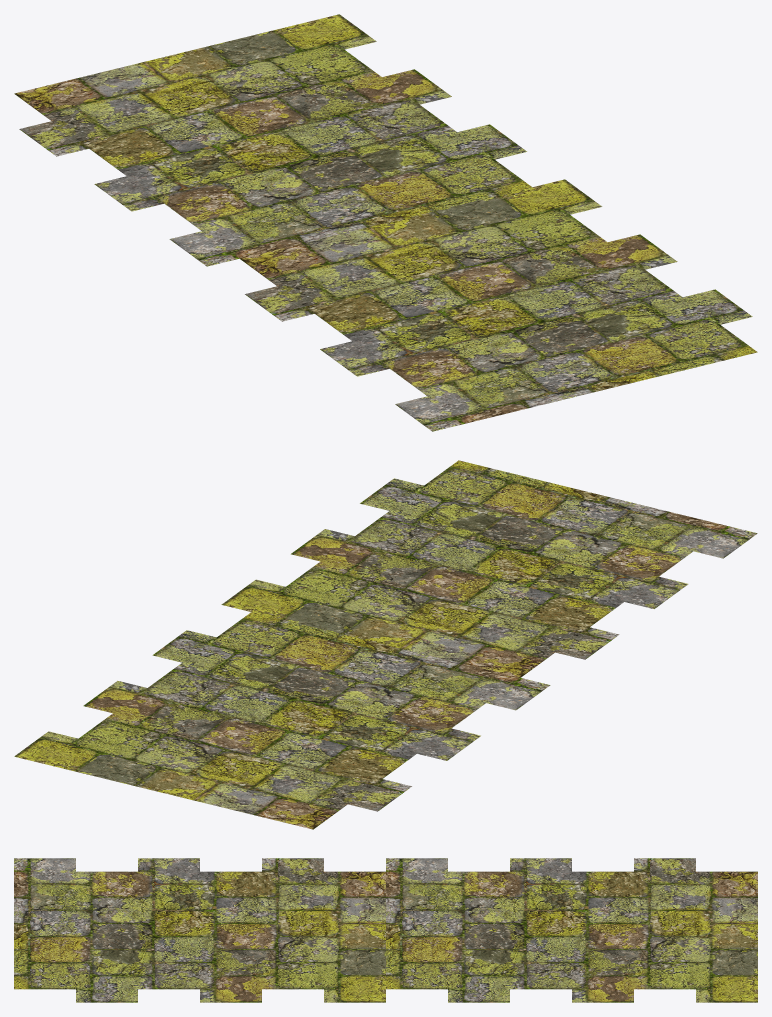
File: RoadSection.fbx
3 views of the same model, one above another, from view 1: azimuth 30°, elevation 25°; view 2: azimuth 150°, elevation 25°; view 3: azimuth 270°, elevation 25° (orthographic). The views are drawn at different scales.
Parts seen in each view (by area): view 1: RoadSection; view 2: RoadSection; view 3: RoadSection.
Boxes of the visible parts, x1,y1,x2,y2 form: RoadSection: [14, 14, 757, 431]; RoadSection: [14, 460, 757, 829]; RoadSection: [14, 858, 757, 1002].
Bounding box in the file's own units: 11 × 0 × 24.
